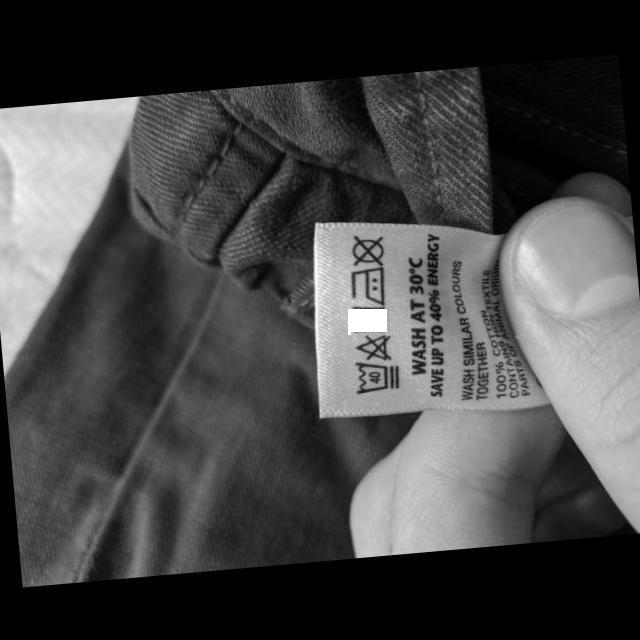40C: (351, 358, 401, 396)
DN_bleach: (352, 332, 394, 363)
DN_dry_clean: (346, 231, 386, 268)
iron_medium: (345, 264, 387, 308)
